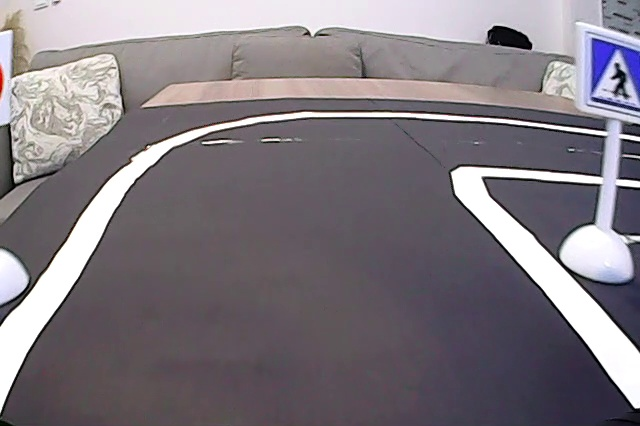pedestrian crossing: (581, 27, 640, 120)
